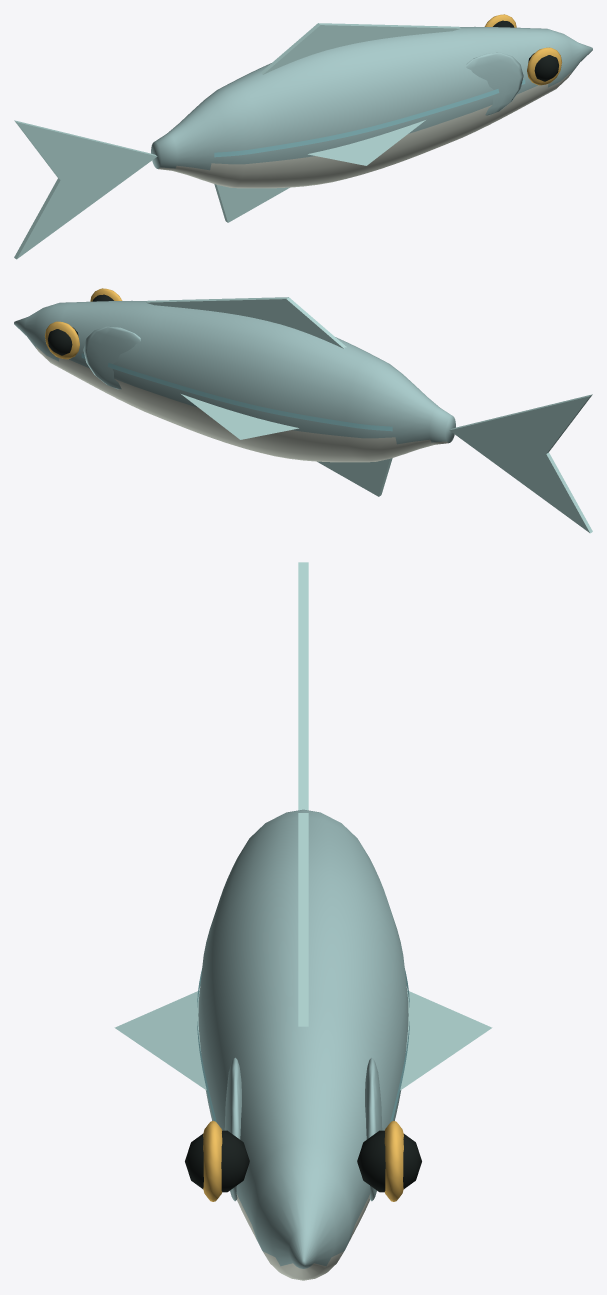
The model's file is minnow.glb.
The picture shows the model from 3 angles, top to bottom: view 1: azimuth 30°, elevation 25°; view 2: azimuth 150°, elevation 25°; view 3: azimuth 270°, elevation 25°; orthographic projection. The views are drawn at different scales.
Parts seen in each view (by area): view 1: minnow_Body, TailFinLower.001, TailFin.001, Dorsal.001, Gill_plate.002, Pectoral.002, Lateral_stripe, Anal_fin.001, Iris_rim.002, Eye.002; view 2: minnow_Body, TailFinLower.001, TailFin.001, Dorsal.001, Gill_plate.003, Pectoral.003, Lateral_stripe.001, Anal_fin.001, Iris_rim.003, Eye.003; view 3: minnow_Body, Pectoral.002, Pectoral.003, TailFin.001, Dorsal.001, Eye.002, Eye.003, Iris_rim.002, Iris_rim.003, Gill_plate.002, Gill_plate.003.
Part boxes in pixels (<box>): minnow_Body: <box>151,26,592,188</box>; TailFinLower.001: <box>14,156,156,259</box>; TailFin.001: <box>14,120,157,179</box>; Dorsal.001: <box>260,23,460,74</box>; Gill_plate.002: <box>466,52,523,115</box>; Pectoral.002: <box>308,120,425,165</box>; Lateral_stripe: <box>214,79,525,157</box>; Anal_fin.001: <box>214,184,289,222</box>; Iris_rim.002: <box>527,47,561,85</box>; Eye.002: <box>528,53,558,81</box>; minnow_Body: <box>14,300,455,462</box>; TailFinLower.001: <box>450,430,592,533</box>; TailFin.001: <box>449,394,592,453</box>; Dorsal.001: <box>146,297,346,348</box>; Gill_plate.003: <box>83,326,140,389</box>; Pectoral.003: <box>181,394,298,439</box>; Lateral_stripe.001: <box>81,353,392,431</box>; Anal_fin.001: <box>317,458,392,496</box>; Iris_rim.003: <box>45,321,79,359</box>; Eye.003: <box>48,327,78,355</box>; minnow_Body: <box>198,809,408,1280</box>; Pectoral.002: <box>114,990,206,1090</box>; Pectoral.003: <box>400,990,492,1090</box>; TailFin.001: <box>298,562,308,810</box>; Dorsal.001: <box>298,813,308,1026</box>; Eye.002: <box>185,1130,249,1192</box>; Eye.003: <box>357,1130,421,1192</box>; Iris_rim.002: <box>203,1121,222,1201</box>; Iris_rim.003: <box>384,1121,403,1201</box>; Gill_plate.002: <box>224,1057,241,1201</box>; Gill_plate.003: <box>365,1057,382,1201</box>.
Bounding box in the file's own units: 2.03 × 0.5896 × 0.576.
